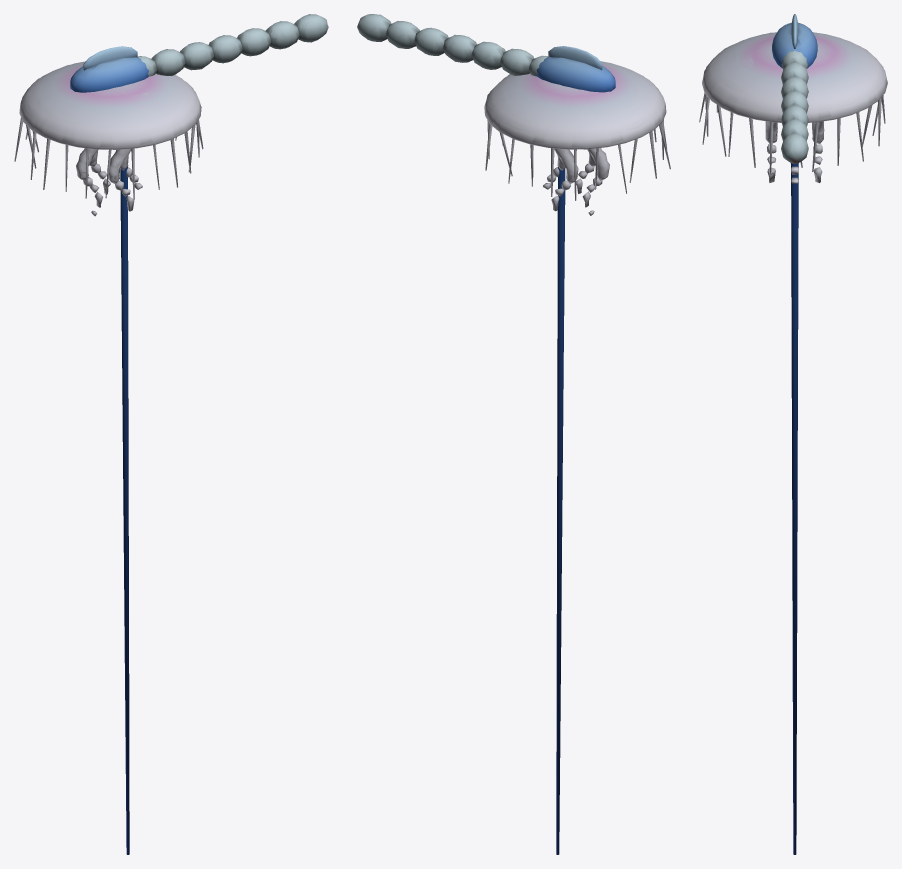
The model's file is pelagic_cosy.glb.
3 views of the same model, side by side, from view 1: azimuth 30°, elevation 25°; view 2: azimuth 150°, elevation 25°; view 3: azimuth 270°, elevation 25° (orthographic).
Parts seen in each view (by area): view 1: jelly_moon, bluebottle_0, jelly_moon_lo, salp_0, salp_0_lo; view 2: jelly_moon, bluebottle_0, jelly_moon_lo, salp_0, salp_0_lo; view 3: jelly_moon, bluebottle_0, jelly_moon_lo, salp_0, salp_0_lo.
Part boxes in pixels (box(x1,y1,x2,y2)): jelly_moon: box(14, 61, 203, 216); bluebottle_0: box(70, 46, 149, 854); jelly_moon_lo: box(20, 64, 199, 209); salp_0: box(138, 14, 328, 76); salp_0_lo: box(139, 14, 328, 75); jelly_moon: box(484, 61, 670, 215); bluebottle_0: box(536, 46, 615, 854); jelly_moon_lo: box(486, 61, 665, 209); salp_0: box(357, 14, 547, 76); salp_0_lo: box(357, 14, 547, 75); jelly_moon: box(699, 32, 887, 183); bluebottle_0: box(772, 14, 817, 854); jelly_moon_lo: box(703, 32, 886, 182); salp_0: box(781, 50, 808, 163); salp_0_lo: box(781, 51, 808, 163).
Size of the model in its own units: 0.6793 by 1.76 by 0.3654.
